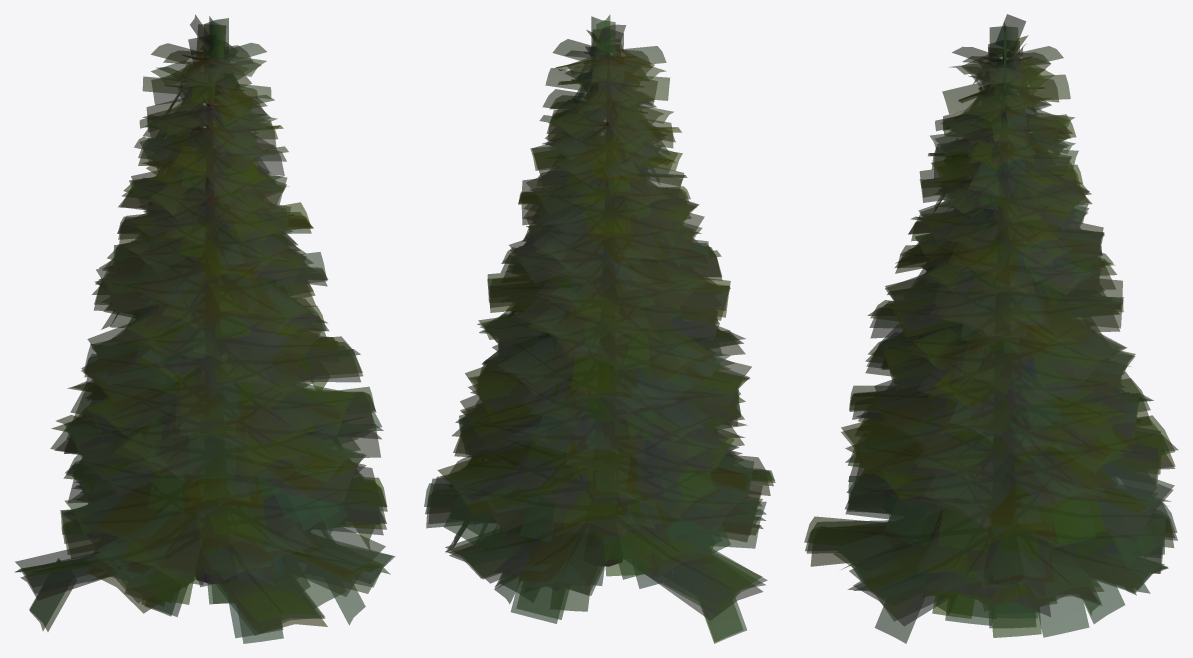
File: veg_spruce_b.glb
3 views of the same model, side by side, from view 1: azimuth 30°, elevation 25°; view 2: azimuth 150°, elevation 25°; view 3: azimuth 270°, elevation 25° (orthographic). The views are drawn at different scales.
Parts seen in each view (by area): view 1: veg_spruce_b_LOD0; view 2: veg_spruce_b_LOD0; view 3: veg_spruce_b_LOD0.
Part boxes in pixels (x1=…): veg_spruce_b_LOD0: x1=15, y1=14, x2=395, y2=643; veg_spruce_b_LOD0: x1=424, y1=15, x2=775, y2=643; veg_spruce_b_LOD0: x1=804, y1=14, x2=1178, y2=643.
Size of what is drawn, in the model's own units: 2.14 by 3.57 by 2.09.
